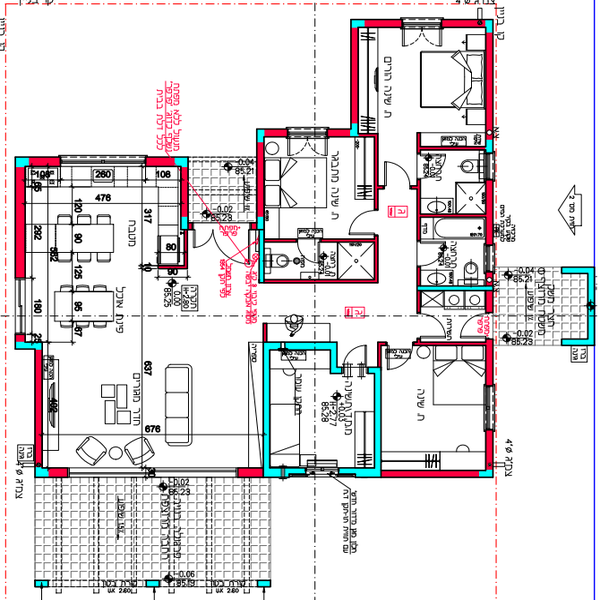door: (403, 15, 447, 52), (340, 204, 384, 236), (456, 304, 492, 342), (380, 154, 414, 192), (411, 308, 449, 342), (297, 226, 327, 269), (415, 246, 449, 272), (345, 341, 370, 376)
room: (27, 333, 281, 494), (6, 143, 187, 275), (252, 124, 380, 290), (261, 333, 389, 483), (351, 14, 492, 150), (381, 335, 497, 484)
wall: (29, 339, 46, 477), (482, 21, 500, 148), (383, 466, 495, 486), (260, 334, 274, 482), (370, 366, 387, 481), (347, 15, 362, 141), (13, 157, 28, 277), (255, 129, 270, 230), (178, 155, 196, 232), (419, 334, 489, 353), (261, 275, 375, 285), (480, 181, 497, 244), (370, 131, 383, 211), (261, 338, 335, 351), (446, 19, 494, 37), (359, 15, 402, 34), (34, 463, 70, 485), (345, 464, 387, 481), (231, 468, 270, 486), (147, 153, 188, 170), (321, 234, 377, 246), (483, 339, 497, 386), (482, 431, 497, 474), (17, 154, 57, 170), (261, 234, 299, 250), (14, 334, 43, 350), (372, 239, 383, 281)
window: (64, 154, 148, 173), (13, 279, 35, 341), (483, 384, 498, 426), (304, 458, 335, 478), (479, 243, 499, 274), (478, 151, 500, 179)
